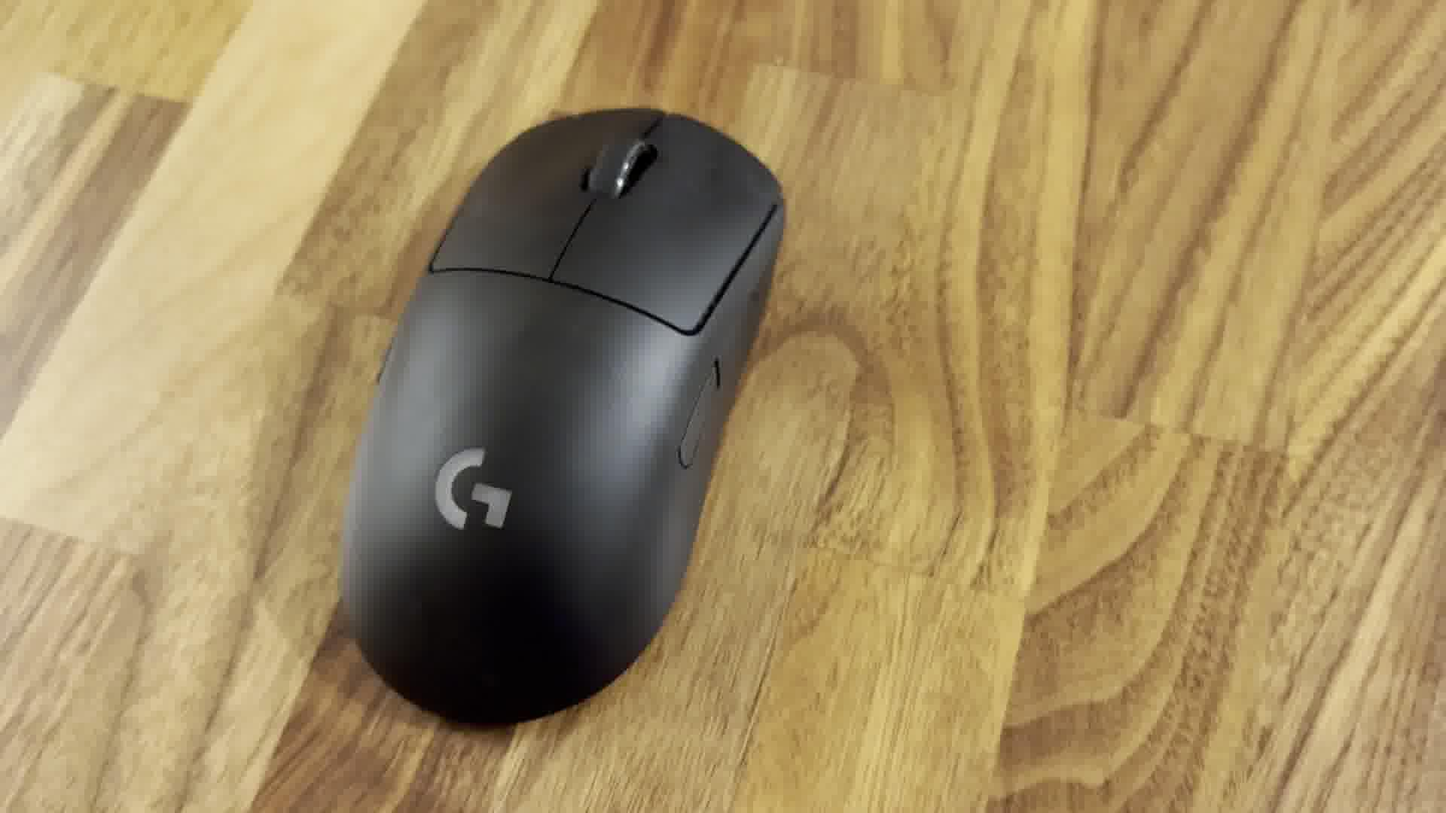mouse: (332, 95, 788, 729)
